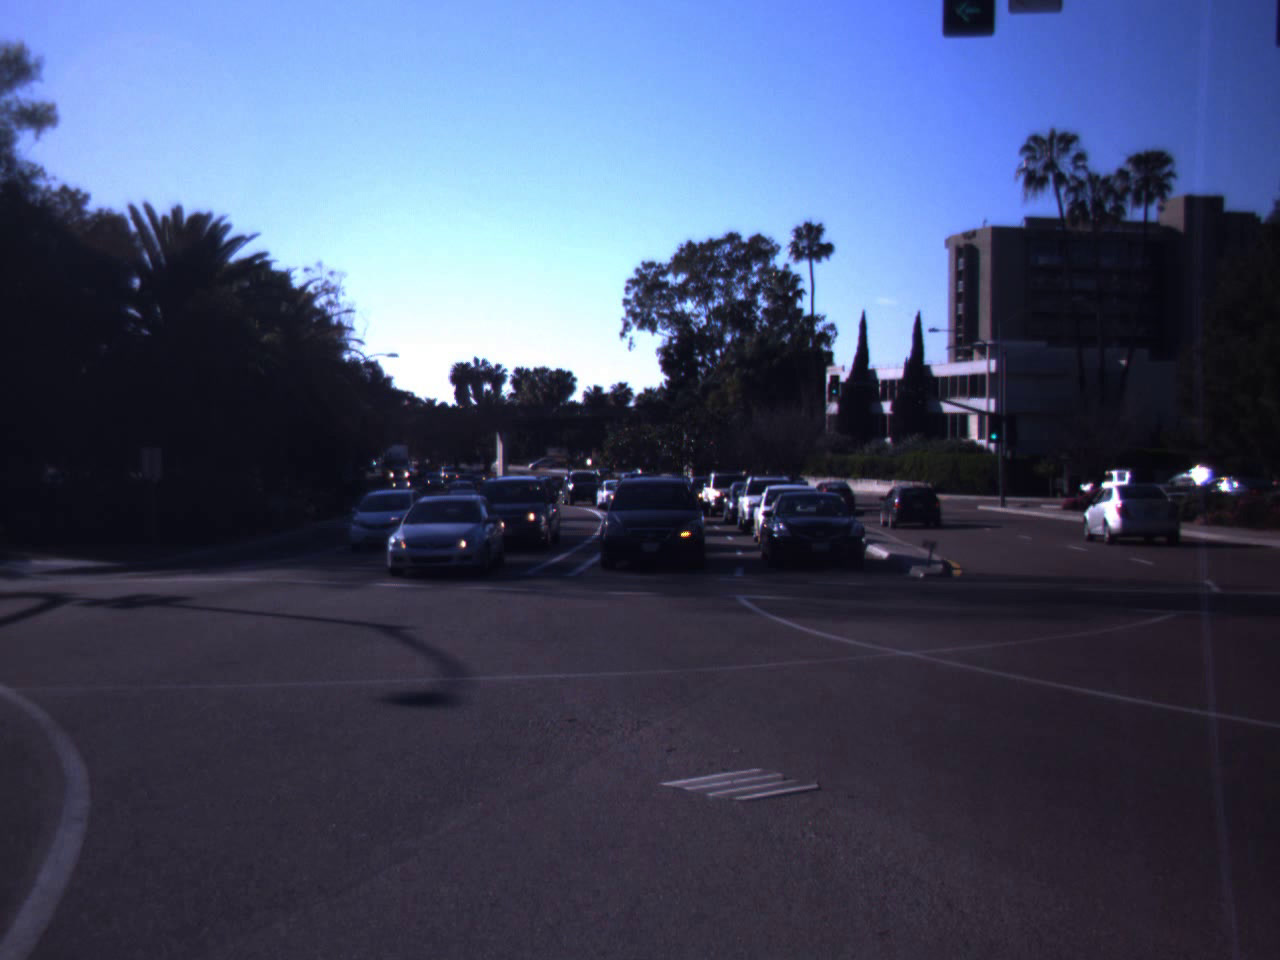go: (930, 0, 1005, 34)
